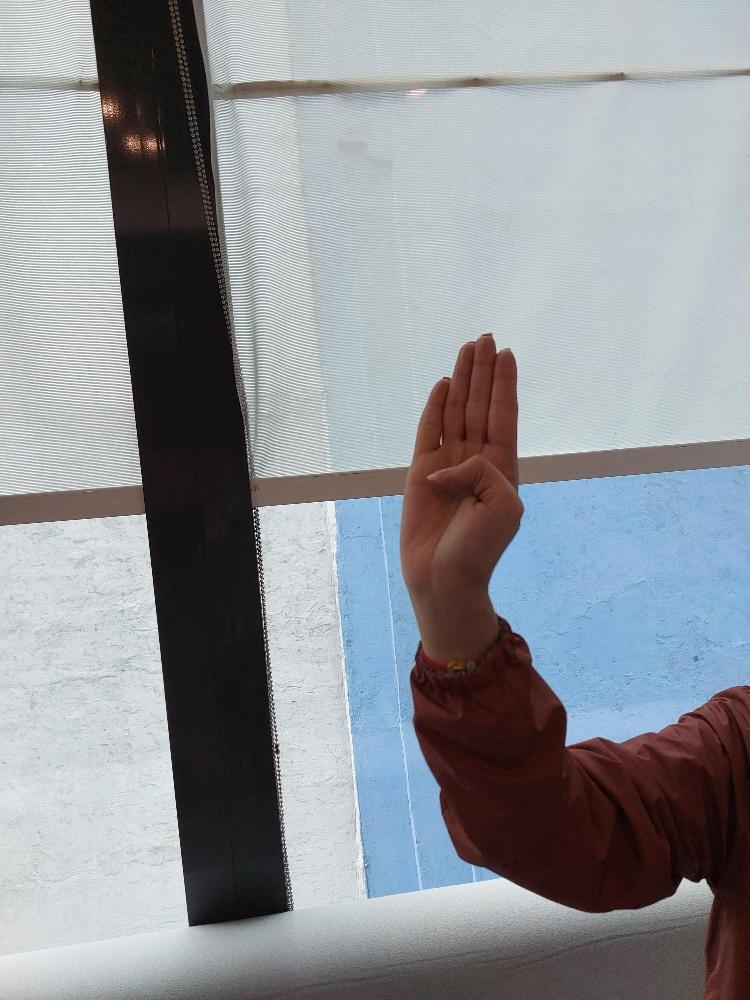b: (399, 326, 526, 601)
